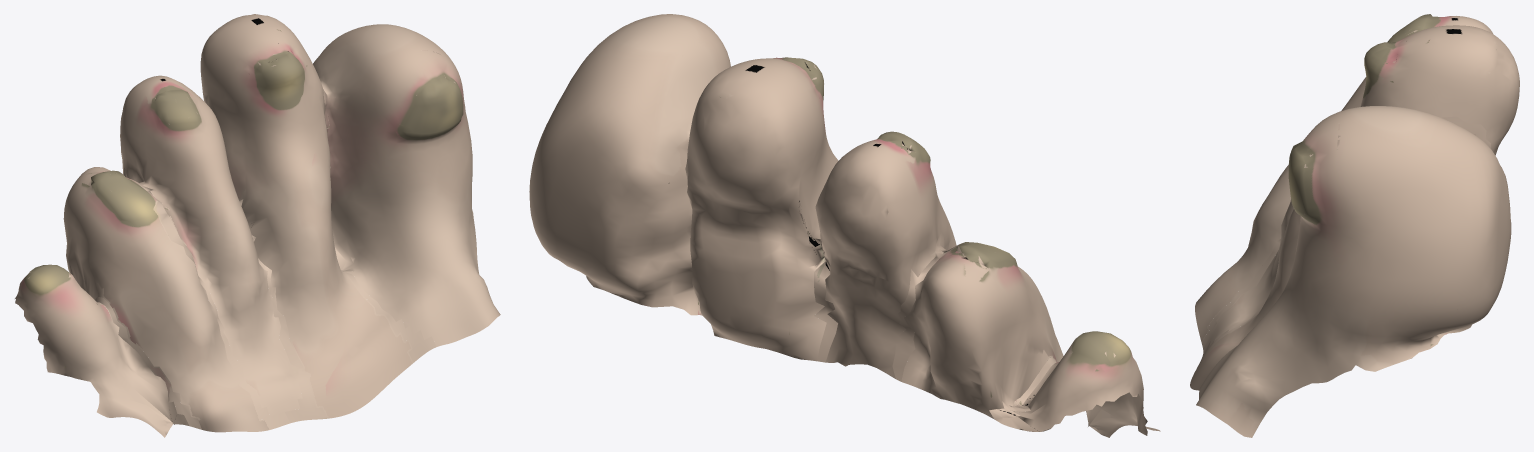
File: Foot.gltf
3 renders of one model, left to right at view 1: azimuth 30°, elevation 25°; view 2: azimuth 150°, elevation 25°; view 3: azimuth 270°, elevation 25°, orthographic. The views are drawn at different scales.
Visible parts, largest first — view 1: Toe1, Toe2, Toe3, Toe4, Toe5, Foot; view 2: Toe1, Toe2, Toe3, Toe4, Toe5, Foot; view 3: Toe1, Toe2, Toe4, Toe3, Foot.
Boxes of the visible parts, x1,y1,x2,y2 form: Toe1: (313, 24, 500, 346); Toe2: (200, 14, 413, 418); Toe3: (120, 75, 302, 426); Toe4: (63, 167, 270, 432); Toe5: (15, 264, 189, 437); Foot: (95, 89, 436, 429); Toe1: (529, 14, 730, 315); Toe2: (687, 57, 838, 361); Toe3: (815, 131, 956, 378); Toe4: (901, 242, 1063, 419); Toe5: (1002, 331, 1160, 437); Foot: (685, 144, 1086, 423); Toe1: (1196, 106, 1511, 437); Toe2: (1190, 25, 1519, 390); Toe4: (1195, 165, 1290, 342); Toe3: (1203, 14, 1492, 352); Foot: (1194, 116, 1490, 372).
Bounding box in the file's own units: 3.64 × 2.42 × 1.98.
1 material, 1 textured.
